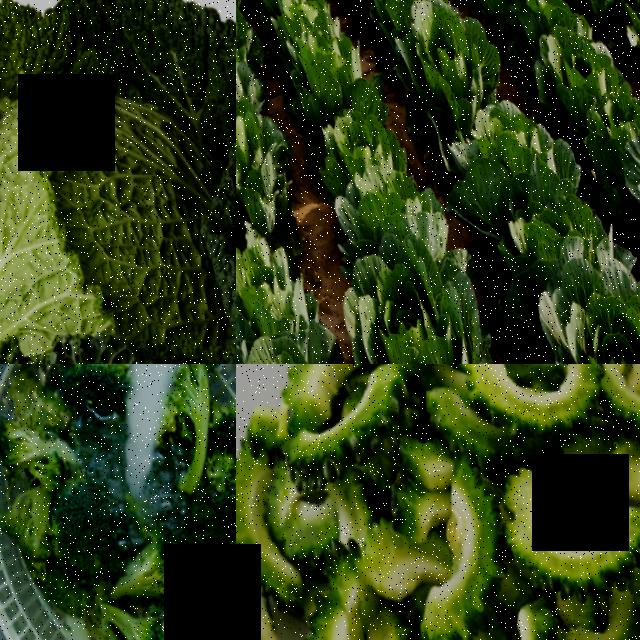bitter gourd: (261, 364, 640, 640)
broccoli: (43, 488, 131, 584), (145, 594, 236, 640), (217, 509, 236, 595)
cabbage: (0, 0, 236, 364), (478, 141, 631, 313), (511, 10, 635, 171), (333, 247, 497, 364), (413, 18, 519, 161), (328, 149, 435, 262), (265, 8, 381, 105), (536, 283, 640, 364), (236, 101, 297, 239)
